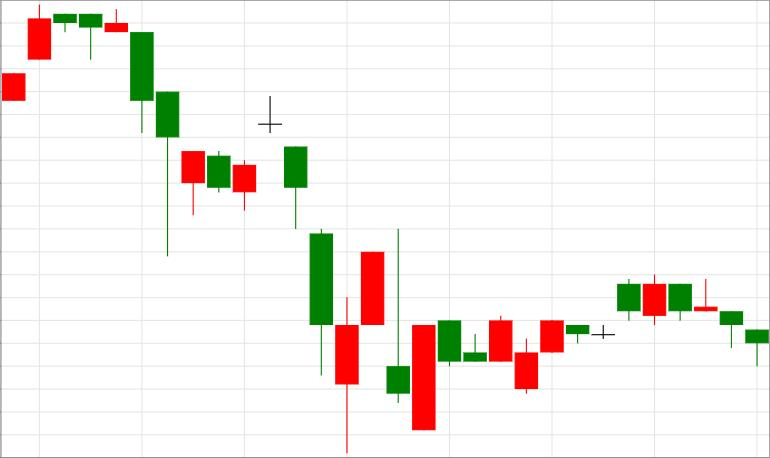hammer_rise: (54, 8, 179, 256)
inverse_hammer_rise: (257, 96, 409, 453)
